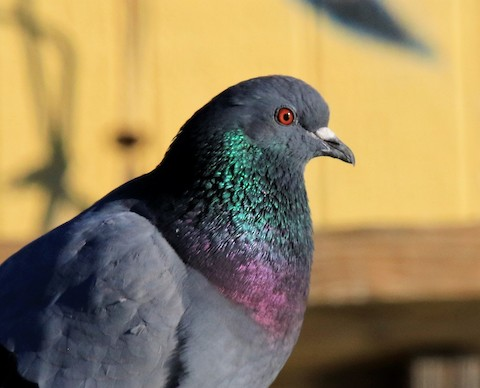pigeon: (5, 69, 370, 382)
